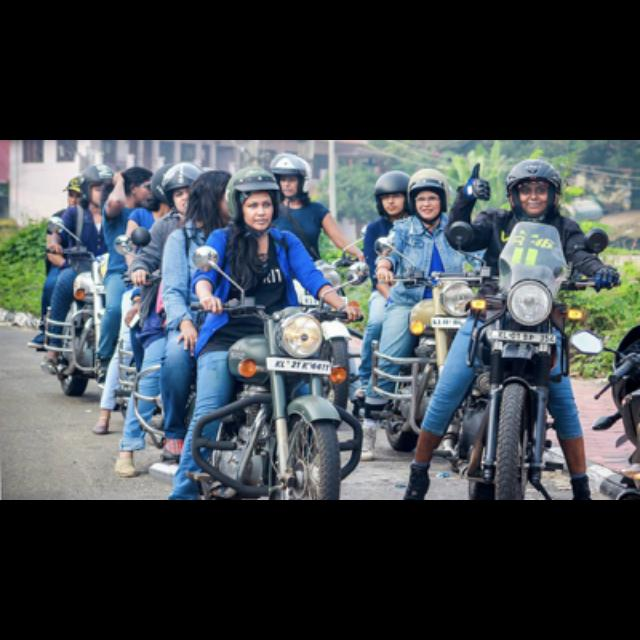With Helmet: (224, 164, 282, 232), (502, 158, 562, 220), (408, 168, 448, 220)
